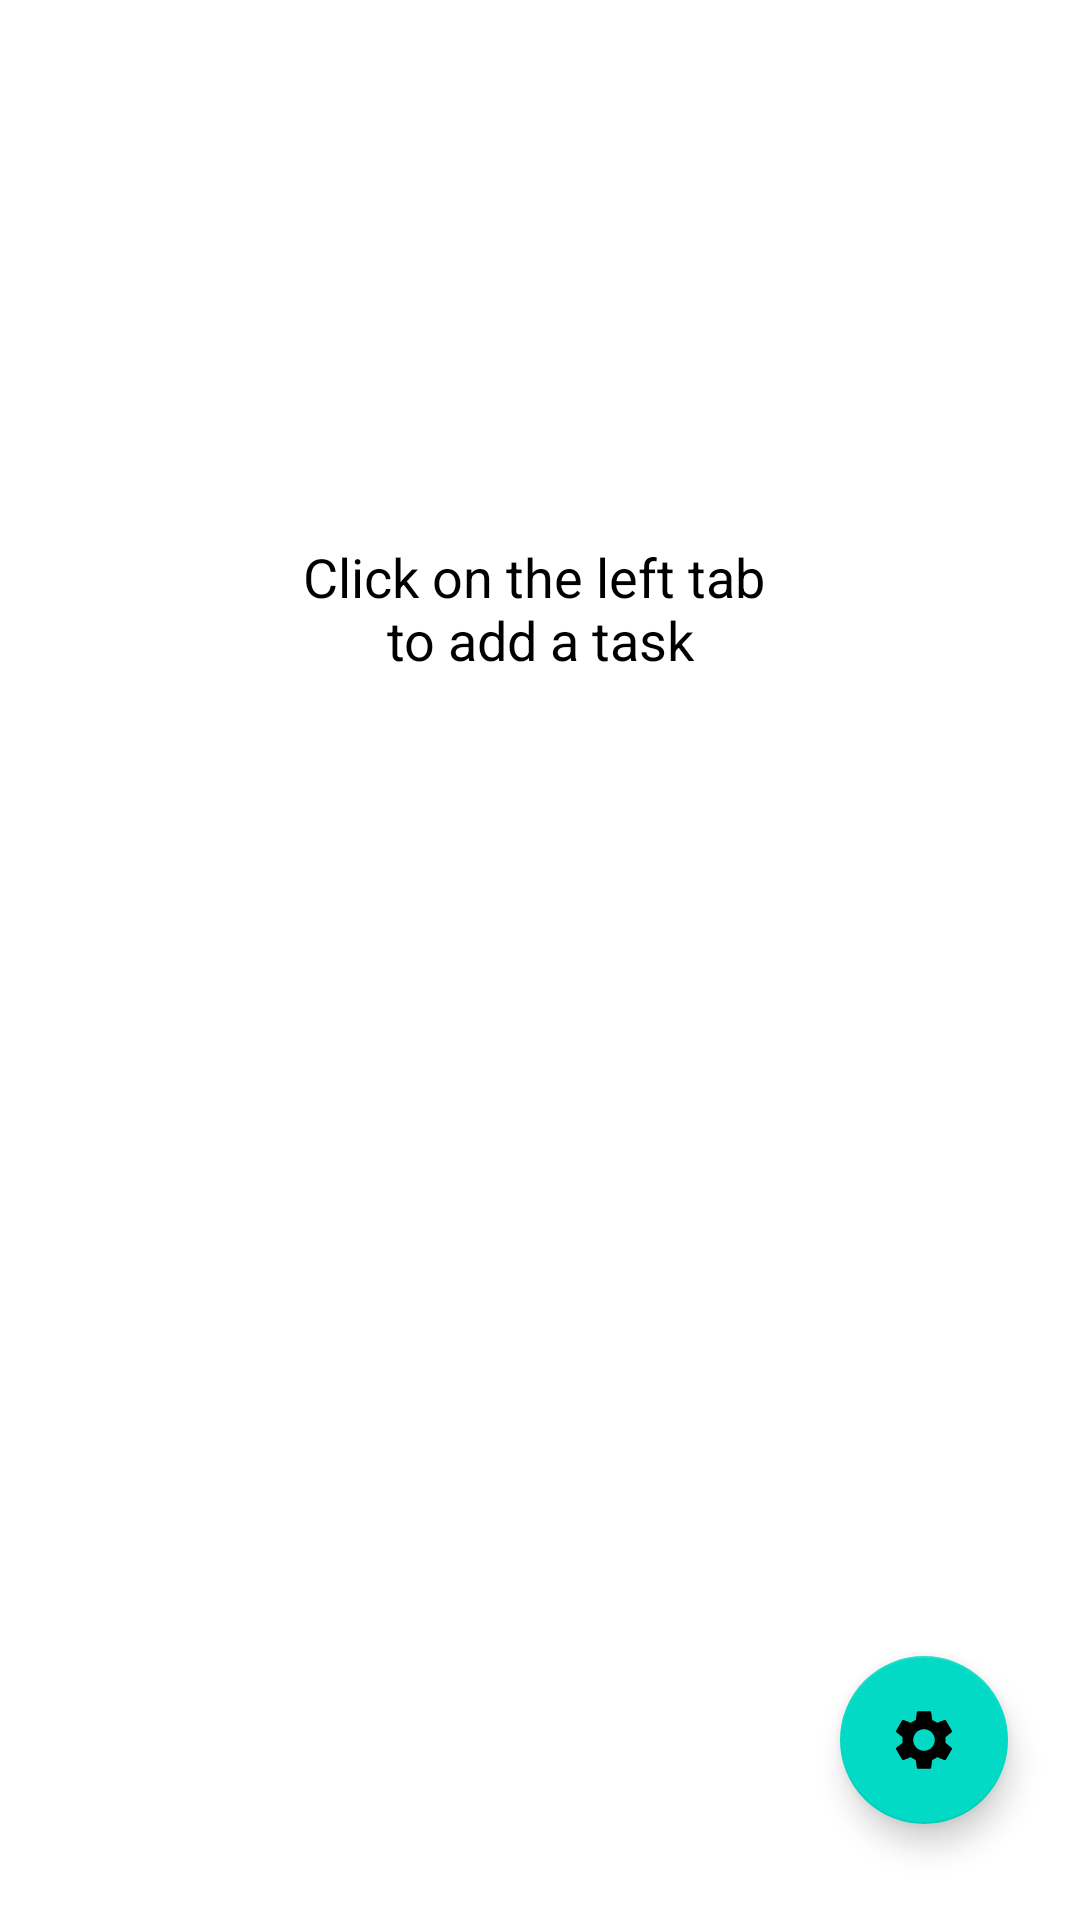

Named icons in this screenshot (1080×1920) and their bounding boxes, (x1, y1, x2, y2):
setting: (840, 1656, 1008, 1824)
